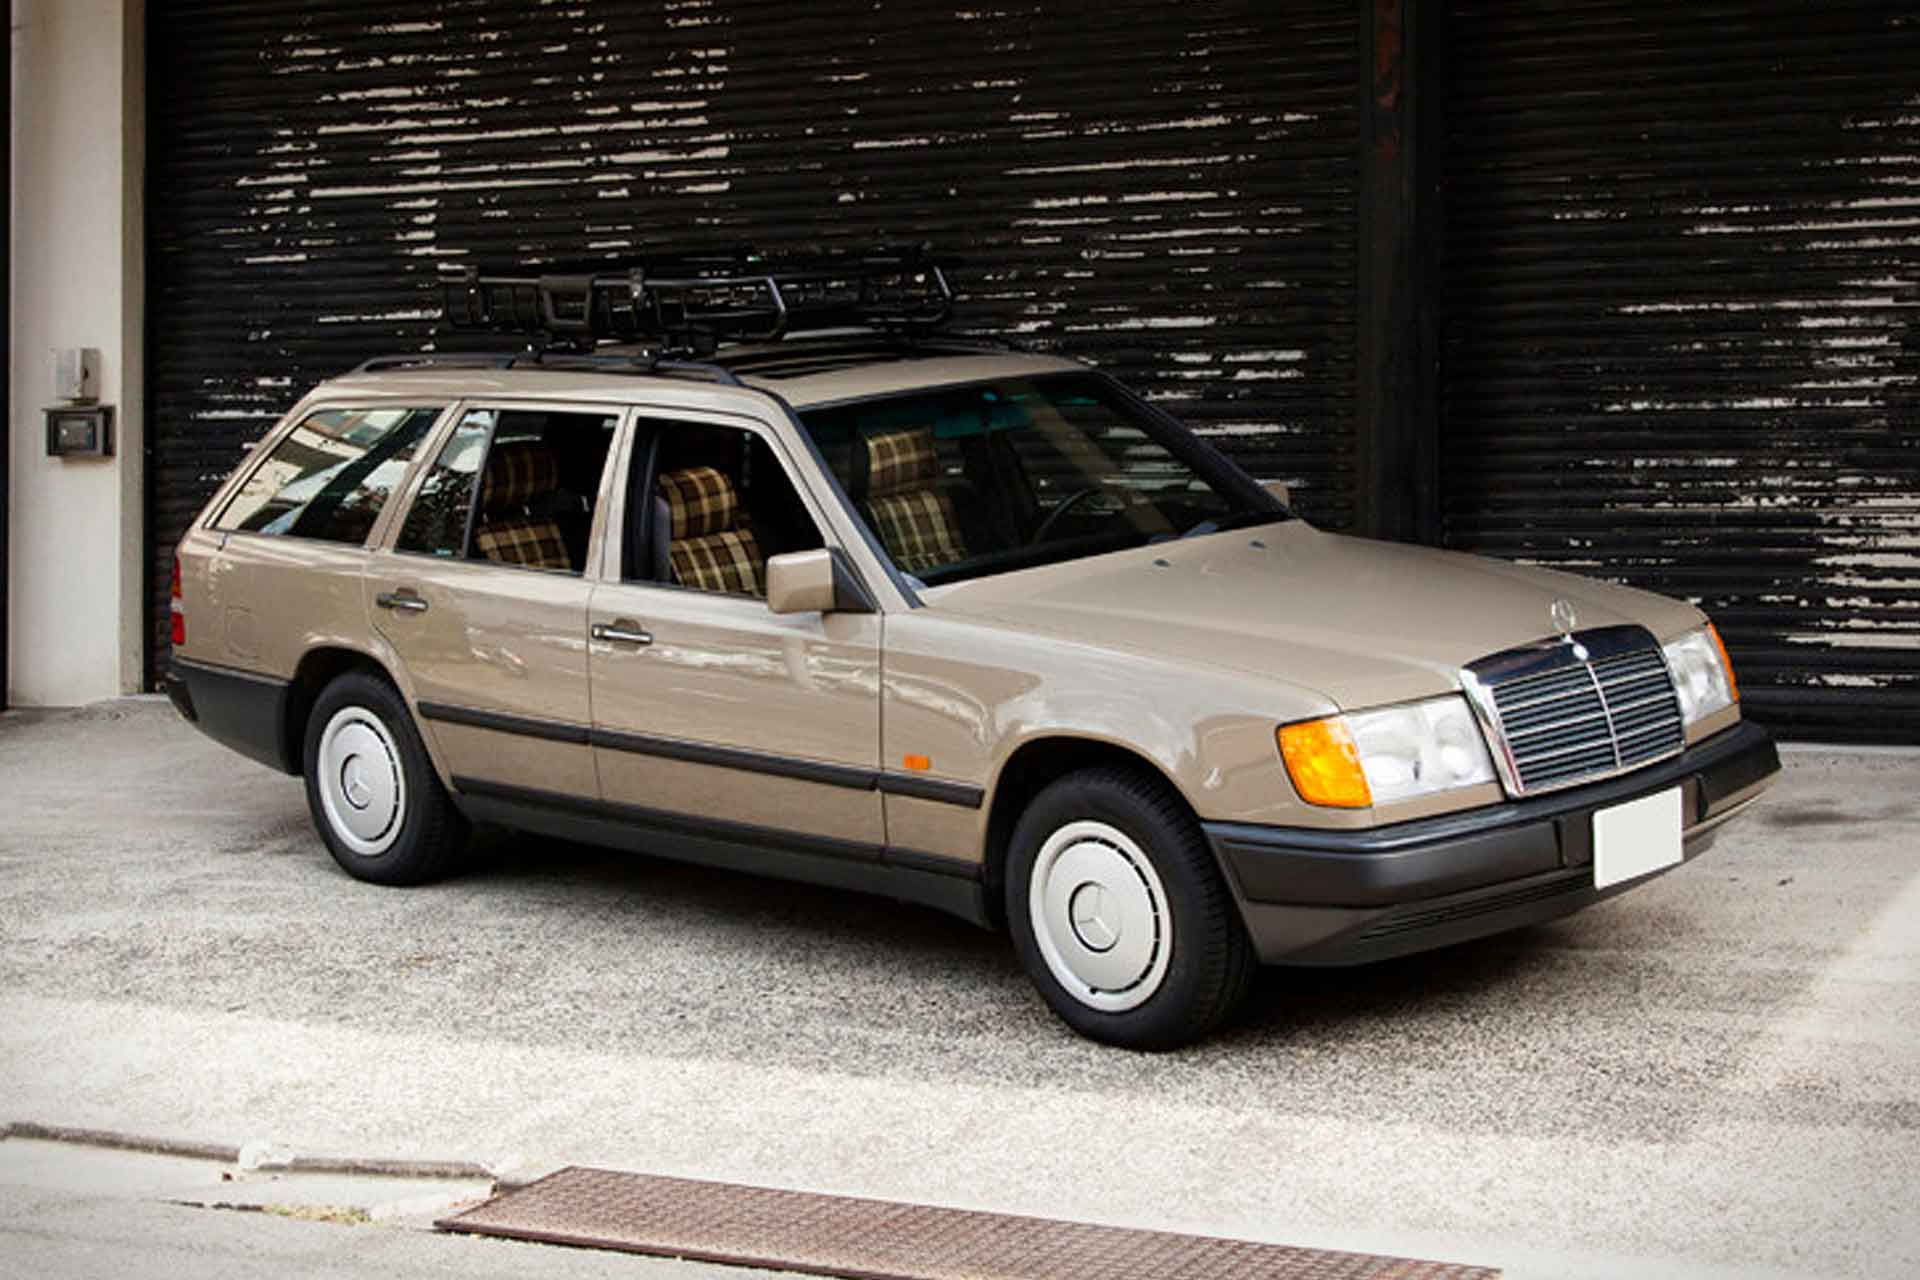car: (161, 326, 1783, 1054)
